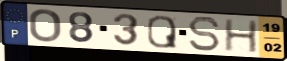3: (111, 13, 140, 47)
8: (67, 11, 96, 44)
H: (222, 18, 260, 55)
O: (27, 8, 63, 44)
Q: (146, 15, 179, 50)
S: (186, 15, 222, 53)
